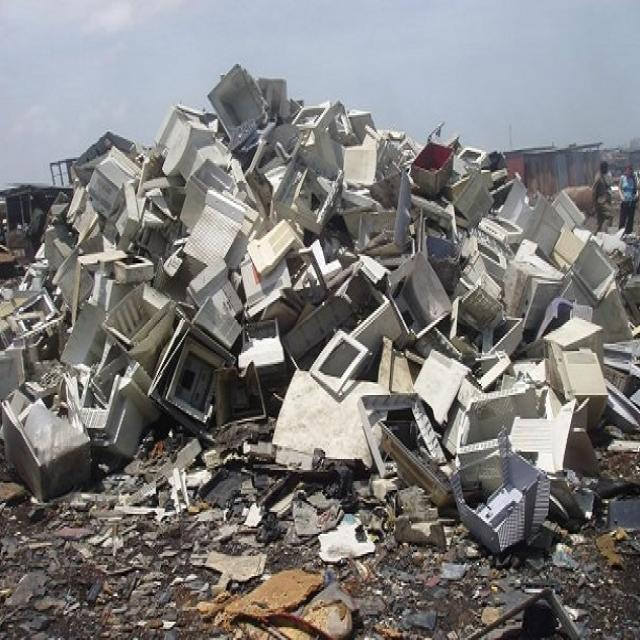garbage: (0, 64, 636, 640)
